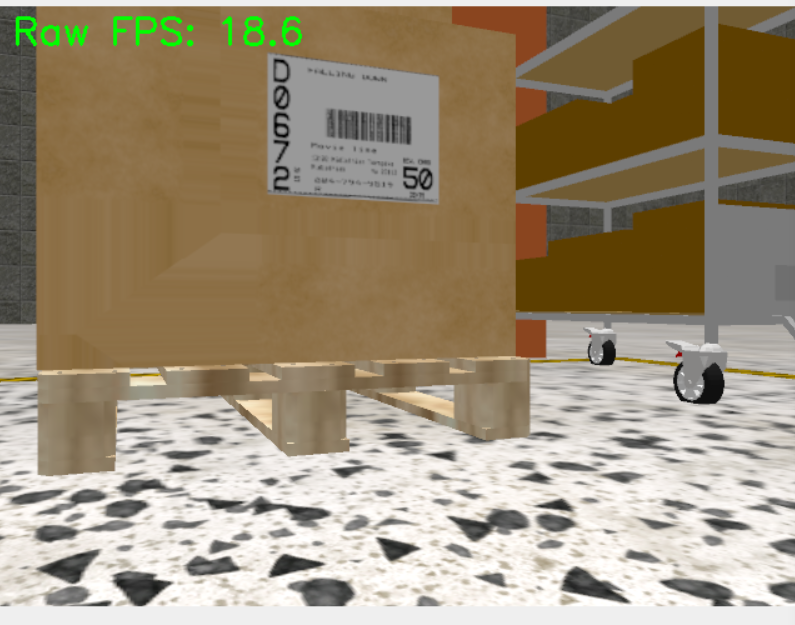barcode: (266, 52, 445, 205)
